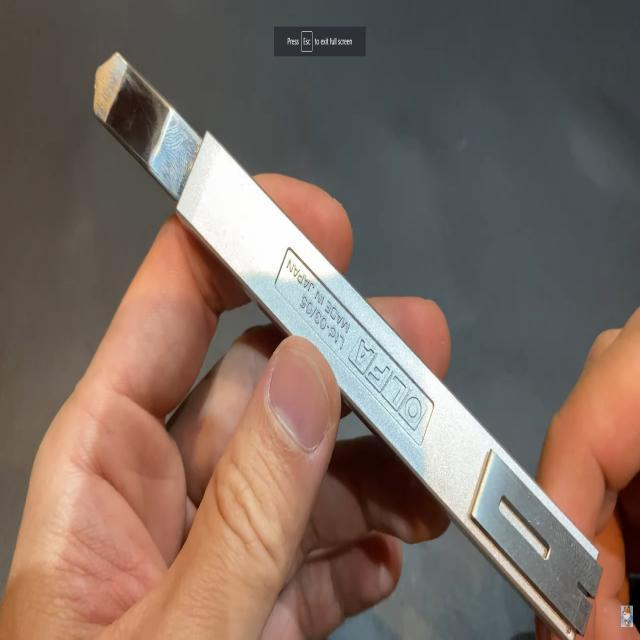cutter: (0, 17, 640, 640)
